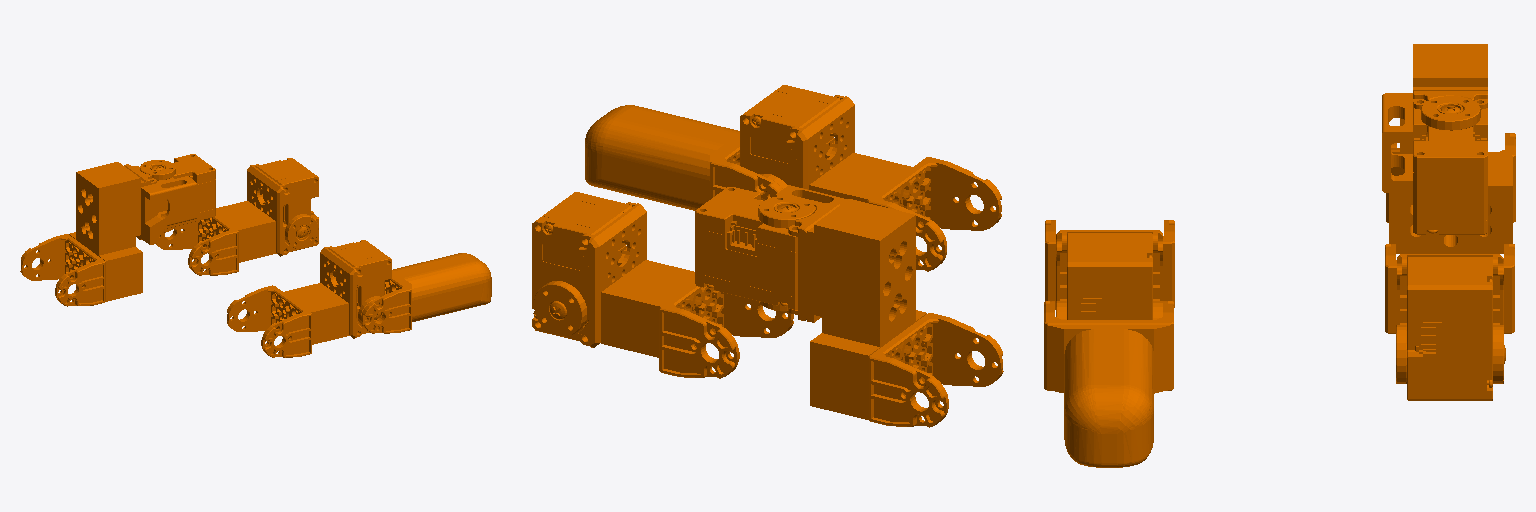
URDF robot description (onshape):
<robot name="onshape">
  <link name="palm_lower">
    <inertial>
      <origin xyz="0.0 0.0 0.0" rpy="0.0 -0.0 0.0"/>
      <mass value="0.237"/>
      <inertia ixx="0.000354094" ixy="-1.193e-06" ixz="-2.445e-06" iyy="0.000260915" iyz="-2.905e-06" izz="0.000529257"/>
    </inertial>
    <visual>
      <geometry>
        <mesh filename="../assets/leap/leap_hand/palm_lower.stl"/>
      </geometry>
      <origin xyz="-0.020095249652862544 0.025757756134899473 -0.034722403578460216" rpy="0.0 -0.0 0.0"/>
      <material name="palm_lower_material">
        <color rgba="0.6039215686274509 0.14901960784313725 0.14901960784313725 1.0"/>
      </material>
    </visual>
    <collision>
      <geometry>
        <mesh filename="../assets/leap/leap_hand/palm_lower.stl"/>
      </geometry>
      <origin xyz="-0.020095249652862544 0.025757756134899473 -0.034722403578460216" rpy="0.0 -0.0 0.0"/>
    </collision>
  </link>
  <link name="mcp_joint_long">
    <inertial>
      <origin xyz="0.0 0.0 0.0" rpy="0.0 -0.0 0.0"/>
      <mass value="0.044"/>
      <inertia ixx="1.1499e-05" ixy="3.049e-06" ixz="1.21e-07" iyy="7.796e-06" iyz="1.12e-07" izz="1.4759e-05"/>
    </inertial>
    <visual>
      <geometry>
        <mesh filename="custom_models/mcp_joint_long.stl"/>
      </geometry>
      <origin xyz="0.008406902261174496 0.0077662438597169954 0.014657354985032912" rpy="1.6375789613221e-15 -1.021047330249102e-30 1.7177968783327987e-31"/>
      <material name="mcp_joint_material">
        <color rgba="0.878 0.467 0.0 1.0"/>
      </material>
    </visual>
    <collision>
      <geometry>
        <mesh filename="custom_models/mcp_joint_long.stl"/>
      </geometry>
      <origin xyz="0.008406902261174496 0.0077662438597169954 0.014657354985032912" rpy="1.6375789613221e-15 -1.021047330249102e-30 1.7177968783327987e-31"/>
    </collision>
  </link>
  <link name="pip">
    <inertial>
      <origin xyz="0.0 0.0 0.0" rpy="0.0 -0.0 0.0"/>
      <mass value="0.032"/>
      <inertia ixx="4.798e-06" ixy="1.2e-08" ixz="4e-09" iyy="2.862e-06" iyz="1.1e-08" izz="4.234e-06"/>
    </inertial>
    <visual>
      <geometry>
        <mesh filename="../assets/leap/leap_hand/pip.stl"/>
      </geometry>
      <origin xyz="0.009643363092271328 0.0002999999999999895 0.0007840340104173765" rpy="-1.5707963267948966 -1.5707963267948963 0.0"/>
      <material name="pip_material">
        <color rgba="0.7490196078431373 0.7490196078431373 0.7490196078431373 1.0"/>
      </material>
    </visual>
    <collision>
      <geometry>
        <mesh filename="../assets/leap/leap_hand/pip.stl"/>
      </geometry>
      <origin xyz="0.009643363092271328 0.0002999999999999895 0.0007840340104173765" rpy="-1.5707963267948966 -1.5707963267948963 0.0"/>
    </collision>
  </link>
  <link name="dip_long">
    <inertial>
      <origin xyz="0.0 0.0 0.0" rpy="0.0 -0.0 0.0"/>
      <mass value="0.037"/>
      <inertia ixx="5.542e-06" ixy="-6.07e-07" ixz="-1.7e-08" iyy="5.727e-06" iyz="-2.3e-08" izz="6.682e-06"/>
    </inertial>
    <visual>
      <geometry>
        <mesh filename="custom_models/dip_long.stl"/>
      </geometry>
      <origin xyz="0.021133352895225003 -0.00843211914670488 0.00978508816209524" rpy="-3.141592653589793 4.507511124216441e-32 4.439548105392361e-32"/>
      <material name="dip_material">
        <color rgba="0.878 0.467 0.0 1.0"/>
      </material>
    </visual>
    <collision>
      <geometry>
        <mesh filename="custom_models/dip_long.stl"/>
      </geometry>
      <origin xyz="0.021133352895225003 -0.00843211914670488 0.00978508816209524" rpy="-3.141592653589793 4.507511124216441e-32 4.439548105392361e-32"/>
    </collision>
  </link>
  <link name="fingertip">
    <inertial>
      <origin xyz="0.0 0.0 0.0" rpy="0.0 -0.0 0.0"/>
      <mass value="0.016"/>
      <inertia ixx="3.368e-06" ixy="1.15e-07" ixz="0.0" iyy="1.556e-06" iyz="0.0" izz="2.863e-06"/>
    </inertial>
    <visual>
      <geometry>
        <mesh filename="../assets/leap/leap_hand/fingertip.stl"/>
      </geometry>
      <origin xyz="0.013286424108533503 -0.006114238386541987 0.014499999999999498" rpy="3.141592653589793 1.1993117970061735e-33 4.439548105392361e-32"/>
      <material name="fingertip_material">
        <color rgba="0.8666666666666667 0.8666666666666667 0.050980392156862744 1.0"/>
      </material>
    </visual>
    <collision>
      <geometry>
        <mesh filename="../assets/leap/leap_hand/fingertip.stl"/>
      </geometry>
      <origin xyz="0.013286424108533503 -0.006114238386541987 0.014499999999999498" rpy="3.141592653589793 1.1993117970061735e-33 4.439548105392361e-32"/>
    </collision>
  </link>
  <link name="pip_4">
    <inertial>
      <origin xyz="0.0 0.0 0.0" rpy="0.0 -0.0 0.0"/>
      <mass value="0.032"/>
      <inertia ixx="4.798e-06" ixy="1.2e-08" ixz="4e-09" iyy="2.862e-06" iyz="1.1e-08" izz="4.234e-06"/>
    </inertial>
    <visual>
      <geometry>
        <mesh filename="../assets/leap/leap_hand/pip.stl"/>
      </geometry>
      <origin xyz="-0.005356636907728671 0.0002999999999999999 0.0007840340104173782" rpy="-1.5707963267948966 -1.5707963267948963 0.0"/>
      <material name="pip_material">
        <color rgba="0.7490196078431373 0.7490196078431373 0.7490196078431373 1.0"/>
      </material>
    </visual>
    <collision>
      <geometry>
        <mesh filename="../assets/leap/leap_hand/pip.stl"/>
      </geometry>
      <origin xyz="-0.005356636907728671 0.0002999999999999999 0.0007840340104173782" rpy="-1.5707963267948966 -1.5707963267948963 0.0"/>
    </collision>
  </link>
  <link name="thumb_pip">
    <inertial>
      <origin xyz="0.0 0.0 0.0" rpy="0.0 -0.0 0.0"/>
      <mass value="0.003"/>
      <inertia ixx="5.93e-07" ixy="0.0" ixz="0.0" iyy="5.49e-07" iyz="0.0" izz="2.24e-07"/>
    </inertial>
    <visual>
      <geometry>
        <mesh filename="../assets/leap/leap_hand/thumb_pip.stl"/>
      </geometry>
      <origin xyz="0.011961920770611187 -5.30825383648903e-16 -0.0158526489566642" rpy="1.5707963267948966 1.6050198443300153e-46 -3.9204996250525193e-59"/>
      <material name="thumb_pip_material">
        <color rgba="0.8666666666666667 0.8666666666666667 0.050980392156862744 1.0"/>
      </material>
    </visual>
    <collision>
      <geometry>
        <mesh filename="../assets/leap/leap_hand/thumb_pip.stl"/>
      </geometry>
      <origin xyz="0.011961920770611187 -5.30825383648903e-16 -0.0158526489566642" rpy="1.5707963267948966 1.6050198443300153e-46 -3.9204996250525193e-59"/>
    </collision>
  </link>
  <link name="thumb_dip">
    <inertial>
      <origin xyz="0.0 0.0 0.0" rpy="0.0 -0.0 0.0"/>
      <mass value="0.038"/>
      <inertia ixx="8.474e-06" ixy="2.41e-07" ixz="2.6e-08" iyy="3.841e-06" iyz="2.5e-08" izz="7.679e-06"/>
    </inertial>
    <visual>
      <geometry>
        <mesh filename="../assets/leap/leap_hand/thumb_dip.stl"/>
      </geometry>
      <origin xyz="0.043968715707239175 0.0579529529737092 -0.008628676449369476" rpy="1.94289029309401e-16 3.27515792264422e-15 1.112375852965736e-46"/>
      <material name="thumb_dip_material">
        <color rgba="0.8666666666666667 0.8666666666666667 0.050980392156862744 1.0"/>
      </material>
    </visual>
    <collision>
      <geometry>
        <mesh filename="../assets/leap/leap_hand/thumb_dip.stl"/>
      </geometry>
      <origin xyz="0.043968715707239175 0.0579529529737092 -0.008628676449369476" rpy="1.94289029309401e-16 3.27515792264422e-15 1.112375852965736e-46"/>
    </collision>
  </link>
  <link name="thumb_fingertip">
    <inertial>
      <origin xyz="0.0 0.0 0.0" rpy="0.0 -0.0 0.0"/>
      <mass value="0.049"/>
      <inertia ixx="2.0372e-05" ixy="-4.89e-07" ixz="-3e-08" iyy="4.336e-06" iyz="-9.7e-08" izz="1.9845e-05"/>
    </inertial>
    <visual>
      <geometry>
        <mesh filename="../assets/leap/leap_hand/thumb_fingertip.stl"/>
      </geometry>
      <origin xyz="0.06255953846266739 0.07845968291139699 0.048992911807332215" rpy="4.379057701015637e-47 -3.33066907387547e-16 1.2042408677791935e-46"/>
      <material name="thumb_fingertip_material">
        <color rgba="0.6039215686274509 0.14901960784313725 0.14901960784313725 1.0"/>
      </material>
    </visual>
    <collision>
      <geometry>
        <mesh filename="../assets/leap/leap_hand/thumb_fingertip.stl"/>
      </geometry>
      <origin xyz="0.06255953846266739 0.07845968291139699 0.048992911807332215" rpy="4.379057701015637e-47 -3.33066907387547e-16 1.2042408677791935e-46"/>
    </collision>
  </link>
  <link name="mcp_joint_2">
    <inertial>
      <origin xyz="0.0 0.0 0.0" rpy="0.0 -0.0 0.0"/>
      <mass value="0.044"/>
      <inertia ixx="1.1499e-05" ixy="3.049e-06" ixz="1.21e-07" iyy="7.796e-06" iyz="1.12e-07" izz="1.4759e-05"/>
    </inertial>
    <visual>
      <geometry>
        <mesh filename="../assets/leap/leap_hand/mcp_joint.stl"/>
      </geometry>
      <origin xyz="0.008406902261174496 0.0077662438597169954 0.014657354985032914" rpy="1.6375789613221e-15 -1.0076465469034e-30 2.1209300131419907e-61"/>
      <material name="mcp_joint_material">
        <color rgba="0.8666666666666667 0.8666666666666667 0.050980392156862744 1.0"/>
      </material>
    </visual>
    <collision>
      <geometry>
        <mesh filename="../assets/leap/leap_hand/mcp_joint.stl"/>
      </geometry>
      <origin xyz="0.008406902261174496 0.0077662438597169954 0.014657354985032914" rpy="1.6375789613221e-15 -1.0076465469034e-30 2.1209300131419907e-61"/>
    </collision>
  </link>
  <link name="pip_2">
    <inertial>
      <origin xyz="0.0 0.0 0.0" rpy="0.0 -0.0 0.0"/>
      <mass value="0.032"/>
      <inertia ixx="4.798e-06" ixy="1.2e-08" ixz="4e-09" iyy="2.862e-06" iyz="1.1e-08" izz="4.234e-06"/>
    </inertial>
    <visual>
      <geometry>
        <mesh filename="../assets/leap/leap_hand/pip.stl"/>
      </geometry>
      <origin xyz="0.009643363092271328 0.0002999999999999947 0.0007840340104173765" rpy="-1.5707963267948966 -1.5707963267948963 0.0"/>
      <material name="pip_material">
        <color rgba="0.7490196078431373 0.7490196078431373 0.7490196078431373 1.0"/>
      </material>
    </visual>
    <collision>
      <geometry>
        <mesh filename="../assets/leap/leap_hand/pip.stl"/>
      </geometry>
      <origin xyz="0.009643363092271328 0.0002999999999999947 0.0007840340104173765" rpy="-1.5707963267948966 -1.5707963267948963 0.0"/>
    </collision>
  </link>
  <link name="dip_2">
    <inertial>
      <origin xyz="0.0 0.0 0.0" rpy="0.0 -0.0 0.0"/>
      <mass value="0.037"/>
      <inertia ixx="5.542e-06" ixy="-6.07e-07" ixz="-1.7e-08" iyy="5.727e-06" iyz="-2.3e-08" izz="6.682e-06"/>
    </inertial>
    <visual>
      <geometry>
        <mesh filename="../assets/leap/leap_hand/dip.stl"/>
      </geometry>
      <origin xyz="0.021133352895225003 -0.008432119146704865 0.009785088162095237" rpy="-3.141592653589793 2.1146933785271956e-32 1.4408183216511869e-31"/>
      <material name="dip_material">
        <color rgba="0.8666666666666667 0.8666666666666667 0.050980392156862744 1.0"/>
      </material>
    </visual>
    <collision>
      <geometry>
        <mesh filename="../assets/leap/leap_hand/dip.stl"/>
      </geometry>
      <origin xyz="0.021133352895225003 -0.008432119146704865 0.009785088162095237" rpy="-3.141592653589793 2.1146933785271956e-32 1.4408183216511869e-31"/>
    </collision>
  </link>
  <link name="fingertip_2">
    <inertial>
      <origin xyz="0.0 0.0 0.0" rpy="0.0 -0.0 0.0"/>
      <mass value="0.016"/>
      <inertia ixx="3.368e-06" ixy="1.15e-07" ixz="0.0" iyy="1.556e-06" iyz="0.0" izz="2.863e-06"/>
    </inertial>
    <visual>
      <geometry>
        <mesh filename="../assets/leap/leap_hand/fingertip.stl"/>
      </geometry>
      <origin xyz="0.013286424108533496 -0.006114238386542001 0.014499999999999496" rpy="3.141592653589793 -4.317959788283594e-33 1.4408183216511869e-31"/>
      <material name="fingertip_material">
        <color rgba="0.8666666666666667 0.8666666666666667 0.050980392156862744 1.0"/>
      </material>
    </visual>
    <collision>
      <geometry>
        <mesh filename="../assets/leap/leap_hand/fingertip.stl"/>
      </geometry>
      <origin xyz="0.013286424108533496 -0.006114238386542001 0.014499999999999496" rpy="3.141592653589793 -4.317959788283594e-33 1.4408183216511869e-31"/>
    </collision>
  </link>
  <link name="mcp_joint_3">
    <inertial>
      <origin xyz="0.0 0.0 0.0" rpy="0.0 -0.0 0.0"/>
      <mass value="0.044"/>
      <inertia ixx="1.1499e-05" ixy="3.049e-06" ixz="1.21e-07" iyy="7.796e-06" iyz="1.12e-07" izz="1.4759e-05"/>
    </inertial>
    <visual>
      <geometry>
        <mesh filename="../assets/leap/leap_hand/mcp_joint.stl"/>
      </geometry>
      <origin xyz="0.0084069022611745 0.007766243859716996 0.014657354985032914" rpy="1.6375789613221e-15 -1.0059504988632627e-30 5.729641584552035e-32"/>
      <material name="mcp_joint_material">
        <color rgba="0.8666666666666667 0.8666666666666667 0.050980392156862744 1.0"/>
      </material>
    </visual>
    <collision>
      <geometry>
        <mesh filename="../assets/leap/leap_hand/mcp_joint.stl"/>
      </geometry>
      <origin xyz="0.0084069022611745 0.007766243859716996 0.014657354985032914" rpy="1.6375789613221e-15 -1.0059504988632627e-30 5.729641584552035e-32"/>
    </collision>
  </link>
  <link name="pip_3">
    <inertial>
      <origin xyz="0.0 0.0 0.0" rpy="0.0 -0.0 0.0"/>
      <mass value="0.032"/>
      <inertia ixx="4.798e-06" ixy="1.2e-08" ixz="4e-09" iyy="2.862e-06" iyz="1.1e-08" izz="4.234e-06"/>
    </inertial>
    <visual>
      <geometry>
        <mesh filename="../assets/leap/leap_hand/pip.stl"/>
      </geometry>
      <origin xyz="0.009643363092271331 0.00029999999999998084 0.0007840340104173765" rpy="-1.5707963267948966 -1.5707963267948963 0.0"/>
      <material name="pip_material">
        <color rgba="0.7490196078431373 0.7490196078431373 0.7490196078431373 1.0"/>
      </material>
    </visual>
    <collision>
      <geometry>
        <mesh filename="../assets/leap/leap_hand/pip.stl"/>
      </geometry>
      <origin xyz="0.009643363092271331 0.00029999999999998084 0.0007840340104173765" rpy="-1.5707963267948966 -1.5707963267948963 0.0"/>
    </collision>
  </link>
  <link name="dip_3_long">
    <inertial>
      <origin xyz="0.0 0.0 0.0" rpy="0.0 -0.0 0.0"/>
      <mass value="0.037"/>
      <inertia ixx="5.542e-06" ixy="-6.07e-07" ixz="-1.7e-08" iyy="5.727e-06" iyz="-2.3e-08" izz="6.682e-06"/>
    </inertial>
    <visual>
      <geometry>
        <mesh filename="custom_models/dip_long.stl"/>
      </geometry>
      <origin xyz="0.021133352895225006 -0.008432119146704865 0.009785088162095237" rpy="-3.141592653589793 -1.4095651113919093e-33 1.5565411607615035e-32"/>
      <material name="dip_material">
        <color rgba="0.878 0.467 0.0 1.0"/>
      </material>
    </visual>
    <collision>
      <geometry>
        <mesh filename="custom_models/dip_long.stl"/>
      </geometry>
      <origin xyz="0.021133352895225006 -0.008432119146704865 0.009785088162095237" rpy="-3.141592653589793 -1.4095651113919093e-33 1.5565411607615035e-32"/>
    </collision>
  </link>
  <link name="fingertip_3_long">
    <inertial>
      <origin xyz="0.0 0.0 0.0" rpy="0.0 -0.0 0.0"/>
      <mass value="0.016"/>
      <inertia ixx="3.368e-06" ixy="1.15e-07" ixz="0.0" iyy="1.556e-06" iyz="0.0" izz="2.863e-06"/>
    </inertial>
    <visual>
      <geometry>
        <mesh filename="custom_models/fingertip_long.stl"/>
      </geometry>
      <origin xyz="0.013286424108533501 -0.006114238386541987 0.0144999999999995" rpy="3.141592653589793 8.61707169505754e-33 1.5565411607615035e-32"/>
      <material name="fingertip_material">
        <color rgba="0.878 0.467 0.0 1.0"/>
      </material>
    </visual>
    <collision>
      <geometry>
        <mesh filename="custom_models/fingertip_long.stl"/>
      </geometry>
      <origin xyz="0.013286424108533501 -0.006114238386541987 0.0144999999999995" rpy="3.141592653589793 8.61707169505754e-33 1.5565411607615035e-32"/>
    </collision>
  </link>
  <joint name="1" type="revolute">
    <parent link="palm_lower"/>
    <child link="mcp_joint_long"/>
    <origin xyz="-0.007095249652862546 0.023057756134899472 -0.01872240357846022" rpy="1.570796326794895 1.5707963267948946 0.0"/>
    <axis xyz="0.0 0.0 -1.0"/>
    <limit effort="0.95" velocity="8.48" lower="-0.314" upper="2.23"/>
  </joint>
  <joint name="0" type="revolute">
    <parent link="mcp_joint_long"/>
    <child link="pip"/>
    <origin xyz="-0.012200000000000007713 0.053099999999999994982 0.014500000000000000736" rpy="-1.5707963267948966 -1.0065212660796337e-15 1.5707963267948943"/>
    <axis xyz="0.0 0.0 -1.0"/>
    <limit effort="0.95" velocity="8.48" lower="-1.047" upper="1.047"/>
  </joint>
  <joint name="2" type="revolute">
    <parent link="pip"/>
    <child link="dip_long"/>
    <origin xyz="0.014999999999999968 0.014299999999999905 -0.012999999999999824" rpy="1.570796326794896 -1.5707963267948963 0.0"/>
    <axis xyz="0.0 0.0 -1.0"/>
    <limit effort="0.95" velocity="8.48" lower="-0.506" upper="1.885"/>
  </joint>
  <joint name="3" type="revolute">
    <parent link="dip_long"/>
    <child link="fingertip"/>
    <origin xyz="-4.0880582495572692636e-09 -0.051100004210367367397 0.00020000000000007858714" rpy="4.5935029425113685e-17 -2.8730071914463795e-16 4.439548105392361e-32"/>
    <axis xyz="0.0 0.0 -1.0"/>
    <limit effort="0.95" velocity="8.48" lower="-0.366" upper="2.042"/>
  </joint>
  <joint name="12" type="revolute">
    <parent link="palm_lower"/>
    <child link="pip_4"/>
    <origin xyz="-0.06939524965286253 -0.0012422438651005258 -0.021622403578460216" rpy="-8.238176646493942e-17 1.5707963267948957 0.0"/>
    <axis xyz="0.0 0.0 -1.0"/>
    <limit effort="0.95" velocity="8.48" lower="-0.349" upper="2.094"/>
  </joint>
  <joint name="13" type="revolute">
    <parent link="pip_4"/>
    <child link="thumb_pip"/>
    <origin xyz="-2.7755575615628914e-17 0.014300000000000005 -0.013000000000000012" rpy="1.570796326794896 -1.5707963267948963 0.0"/>
    <axis xyz="0.0 0.0 -1.0"/>
    <limit effort="0.95" velocity="8.48" lower="-0.47" upper="2.443"/>
  </joint>
  <joint name="14" type="revolute">
    <parent link="thumb_pip"/>
    <child link="thumb_dip"/>
    <origin xyz="0.0 0.014499999999999966 -0.017000000000000053" rpy="-1.5707963267948966 1.6050198443300131e-46 -1.9721522630516625e-31"/>
    <axis xyz="0.0 0.0 -1.0"/>
    <limit effort="0.95" velocity="8.48" lower="-1.2" upper="1.9"/>
  </joint>
  <joint name="15" type="revolute">
    <parent link="thumb_dip"/>
    <child link="thumb_fingertip"/>
    <origin xyz="-1.249000902703301e-16 0.046599999999999864 0.0001999999999999771" rpy="1.506395849149178e-44 5.423418723393526e-31 3.141592653589793"/>
    <axis xyz="0.0 0.0 -1.0"/>
    <limit effort="0.95" velocity="8.48" lower="-1.34" upper="1.88"/>
  </joint>
  <joint name="5" type="revolute">
    <parent link="palm_lower"/>
    <child link="mcp_joint_2"/>
    <origin xyz="-0.007095249652862546 -0.022392243865100525 -0.01872240357846022" rpy="1.570796326794895 1.5707963267948946 0.0"/>
    <axis xyz="0.0 0.0 -1.0"/>
    <limit effort="0.95" velocity="8.48" lower="-0.314" upper="2.23"/>
  </joint>
  <joint name="4" type="revolute">
    <parent link="mcp_joint_2"/>
    <child link="pip_2"/>
    <origin xyz="-0.012200000000000008 0.038099999999999995 0.0145" rpy="-1.5707963267948966 -1.0065212660796337e-15 1.5707963267948943"/>
    <axis xyz="0.0 0.0 -1.0"/>
    <limit effort="0.95" velocity="8.48" lower="-1.047" upper="1.047"/>
  </joint>
  <joint name="6" type="revolute">
    <parent link="pip_2"/>
    <child link="dip_2"/>
    <origin xyz="0.014999999999999968 0.014299999999999905 -0.012999999999999824" rpy="1.570796326794896 -1.5707963267948963 0.0"/>
    <axis xyz="0.0 0.0 -1.0"/>
    <limit effort="0.95" velocity="8.48" lower="-0.506" upper="1.885"/>
  </joint>
  <joint name="7" type="revolute">
    <parent link="dip_2"/>
    <child link="fingertip_2"/>
    <origin xyz="-4.088058249557269e-09 -0.03610000421036737 0.0002000000000000786" rpy="4.5935029425113685e-17 -2.8730071914463795e-16 4.439548105392361e-32"/>
    <axis xyz="0.0 0.0 -1.0"/>
    <limit effort="0.95" velocity="8.48" lower="-0.366" upper="2.042"/>
  </joint>
  <joint name="9" type="revolute">
    <parent link="palm_lower"/>
    <child link="mcp_joint_3"/>
    <origin xyz="-0.007095249652862546 -0.06784224386510052 -0.01872240357846022" rpy="1.570796326794895 1.5707963267948946 0.0"/>
    <axis xyz="0.0 0.0 -1.0"/>
    <limit effort="0.95" velocity="8.48" lower="-0.314" upper="2.23"/>
  </joint>
  <joint name="8" type="revolute">
    <parent link="mcp_joint_3"/>
    <child link="pip_3"/>
    <origin xyz="-0.012200000000000008 0.038099999999999995 0.0145" rpy="-1.5707963267948966 -1.0065212660796337e-15 1.5707963267948943"/>
    <axis xyz="0.0 0.0 -1.0"/>
    <limit effort="0.95" velocity="8.48" lower="-1.047" upper="1.047"/>
  </joint>
  <joint name="10" type="revolute">
    <parent link="pip_3"/>
    <child link="dip_3_long"/>
    <origin xyz="0.014999999999999968 0.014299999999999905 -0.012999999999999824" rpy="1.570796326794896 -1.5707963267948963 0.0"/>
    <axis xyz="0.0 0.0 -1.0"/>
    <limit effort="0.95" velocity="8.48" lower="-0.506" upper="1.885"/>
  </joint>
  <joint name="11" type="revolute">
    <parent link="dip_3_long"/>
    <child link="fingertip_3_long"/>
    <origin xyz="-4.0880582495572692636e-09 -0.051100004210367367397 0.00020000000000007858714" rpy="4.5935029425113685e-17 -2.8730071914463795e-16 4.439548105392361e-32"/>
    <axis xyz="0.0 0.0 -1.0"/>
    <limit effort="0.95" velocity="8.48" lower="-0.366" upper="2.042"/>
  </joint>
</robot>

--- Facts derived from the render (not from the file) ---
Views: 3 orthographic renders of the robot side by side, from view 1: azimuth 30°, elevation 25°; view 2: azimuth 150°, elevation 25°; view 3: azimuth 270°, elevation 25°.
Model onshape with 17 links and 16 joints (16 revolute), rooted at palm_lower, posed every joint at zero.
Visible links, largest first — view 1: mcp_joint_long, dip_3_long, dip_long, fingertip_3_long; view 2: mcp_joint_long, dip_long, dip_3_long, fingertip_3_long; view 3: mcp_joint_long, dip_long, fingertip_3_long, dip_3_long.
Link boxes in pixels (left/top/right/bottom): mcp_joint_long: left=20, top=154, right=215, bottom=306; dip_3_long: left=227, top=240, right=391, bottom=357; dip_long: left=155, top=158, right=318, bottom=275; fingertip_3_long: left=361, top=253, right=491, bottom=333; mcp_joint_long: left=695, top=185, right=1003, bottom=427; dip_long: left=532, top=192, right=793, bottom=378; dip_3_long: left=740, top=85, right=1001, bottom=271; fingertip_3_long: left=585, top=105, right=782, bottom=210; mcp_joint_long: left=1382, top=44, right=1515, bottom=253; dip_long: left=1385, top=244, right=1514, bottom=400; fingertip_3_long: left=1044, top=301, right=1173, bottom=467; dip_3_long: left=1045, top=220, right=1174, bottom=319.
Size in the robot's own frame: 0.1766 by 0.1259 by 0.0549 metres.
Meshes: 11 distinct files referenced, 4 mesh visuals loaded (3 binary STL); not drawn: 13 (reference not matched to a file when rendering).